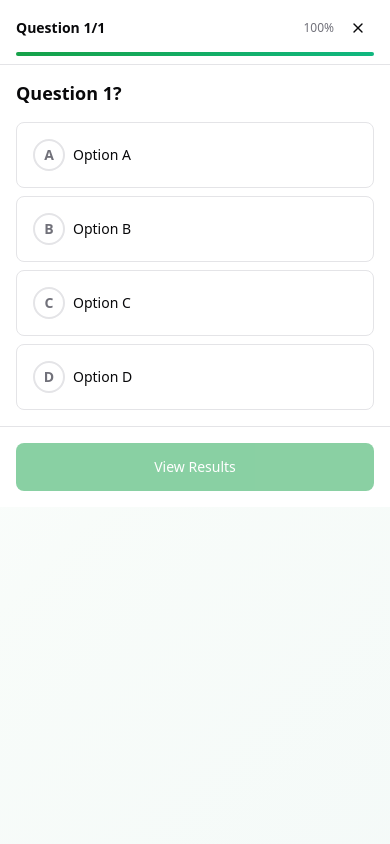
Test case: QuizDisplay › shows results after completing quiz
Click the text "Option A" at (102, 155), box [73,145,131,164]
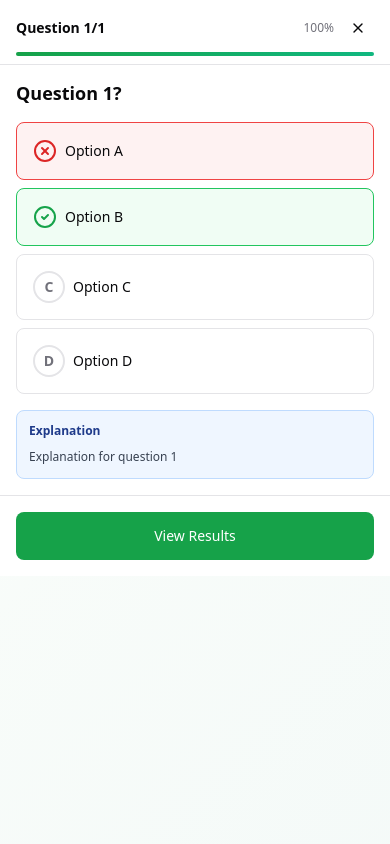
Click the button "View Results" at (195, 536), box [16,512,374,560]
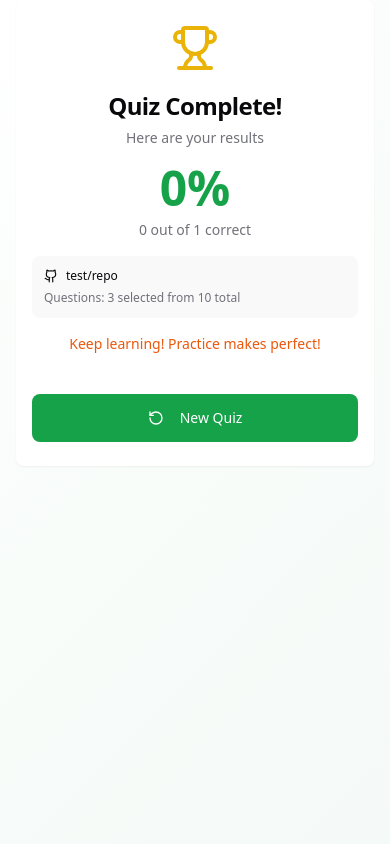
Expected: the heading "Quiz Complete!" is shown, [108,89,282,122]
